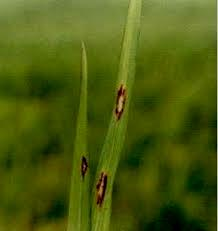1 RiceBlast: (89, 166, 119, 202), (112, 79, 125, 118), (77, 148, 92, 177)
